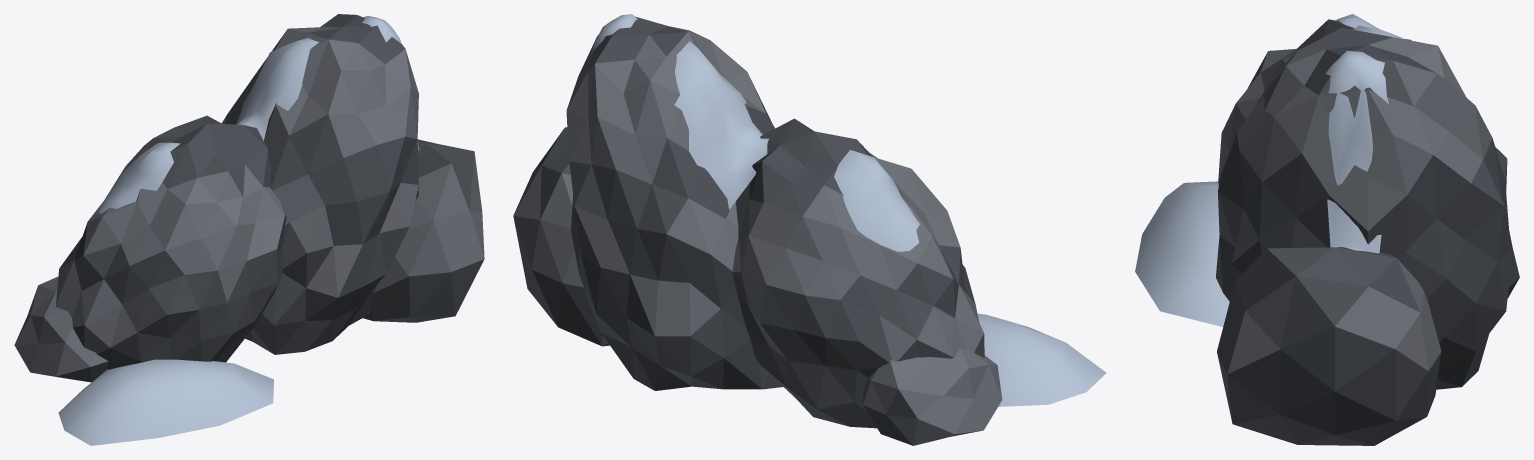
Rendered from crest_rock_a.glb.
3 renders of one model, left to right at view 1: azimuth 30°, elevation 25°; view 2: azimuth 150°, elevation 25°; view 3: azimuth 270°, elevation 25°, orthographic. The views are drawn at different scales.
Parts seen in each view (by area): view 1: Rock; view 2: Rock; view 3: Rock.
Boxes of the visible parts, box(x1,y1,x2,y2) form: Rock: box(14, 14, 484, 445); Rock: box(513, 14, 1106, 445); Rock: box(1135, 14, 1519, 445).
Size of the model in its own units: 5.09 by 3.09 by 2.91.
